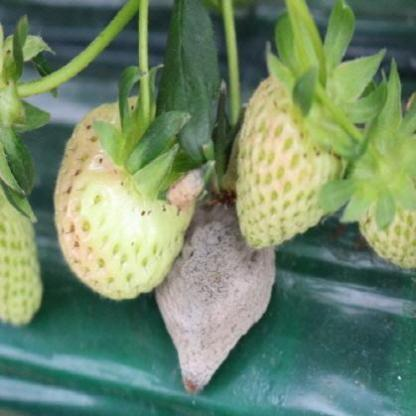Strawberry_Gray_Mold: (155, 189, 276, 395)
